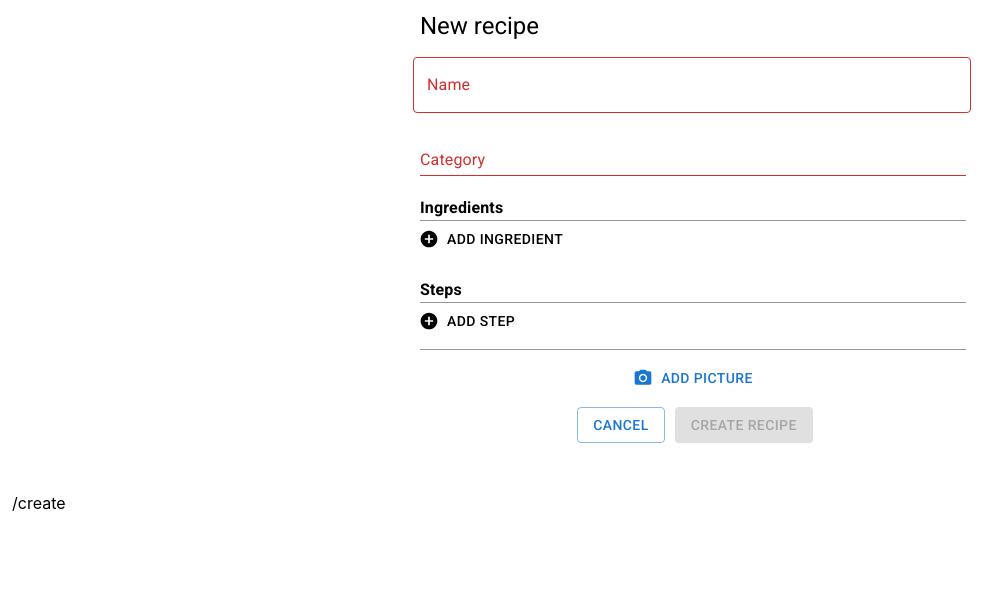
it: RecipeEditor › a new recipe › cannot be saved with an unnamed ingredient or an empty step
Type "Guláš" into the field labelled "Name".
click(692, 85); type("Guláš")  # box top-left (413, 57), bottom-right (971, 113)
Type "Maso" into the dropdown labelled "Category".
click(678, 160); type("Maso")  # box top-left (420, 144), bottom-right (936, 175)
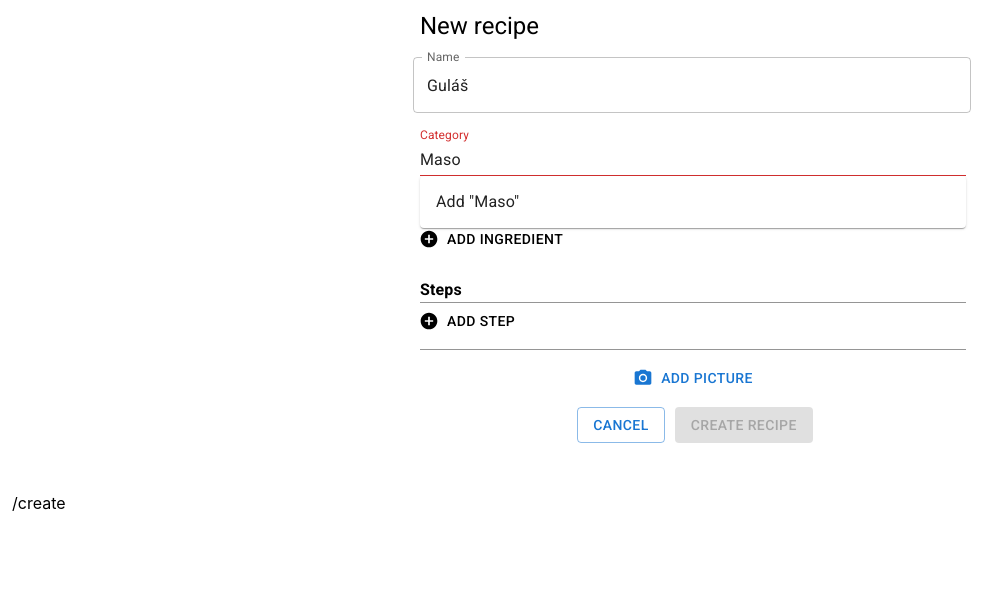
Press Enter in the dropdown labelled "Category", box top-left (420, 144), bottom-right (936, 175)
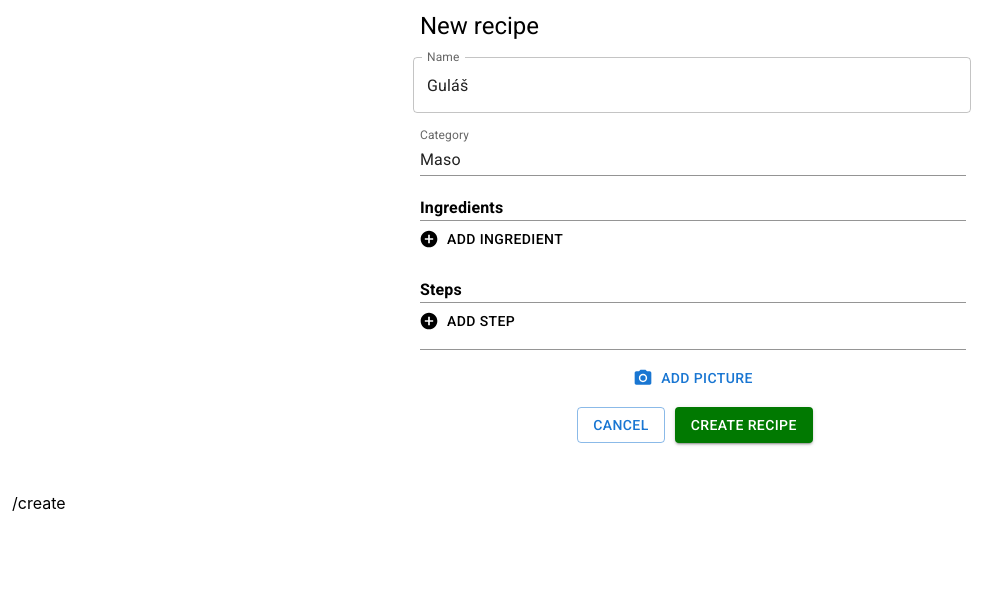
Click the button "Add ingredient".
click(493, 239)  # box top-left (415, 221), bottom-right (571, 258)
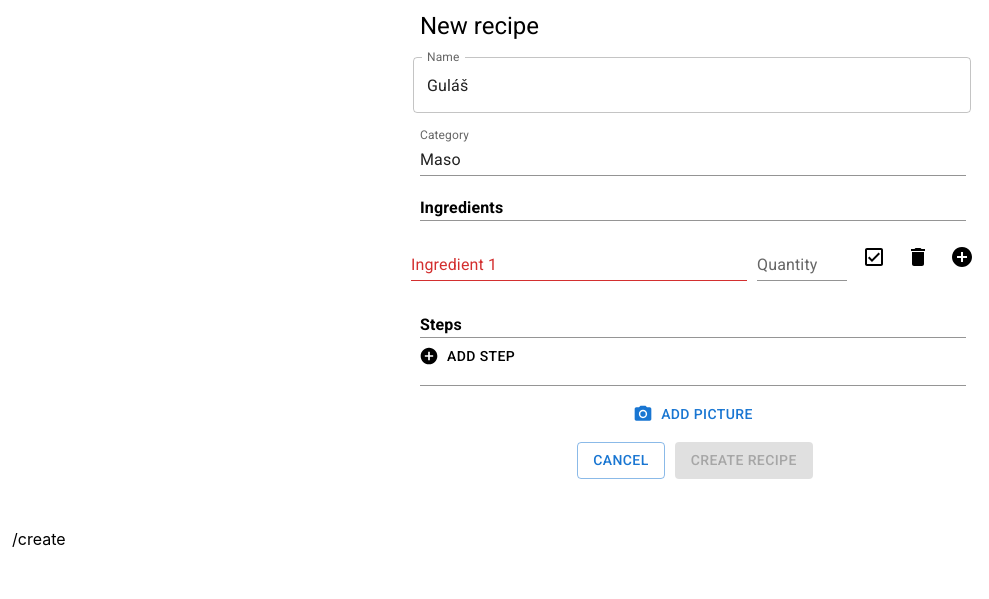
Expected: the button "Create Recipe" is disabled, top-left (675, 442), bottom-right (813, 478)
Type "Batatas" into the dropdown labelled "Ingredient 1".
click(564, 264); type("Batatas")  # box top-left (411, 249), bottom-right (717, 280)
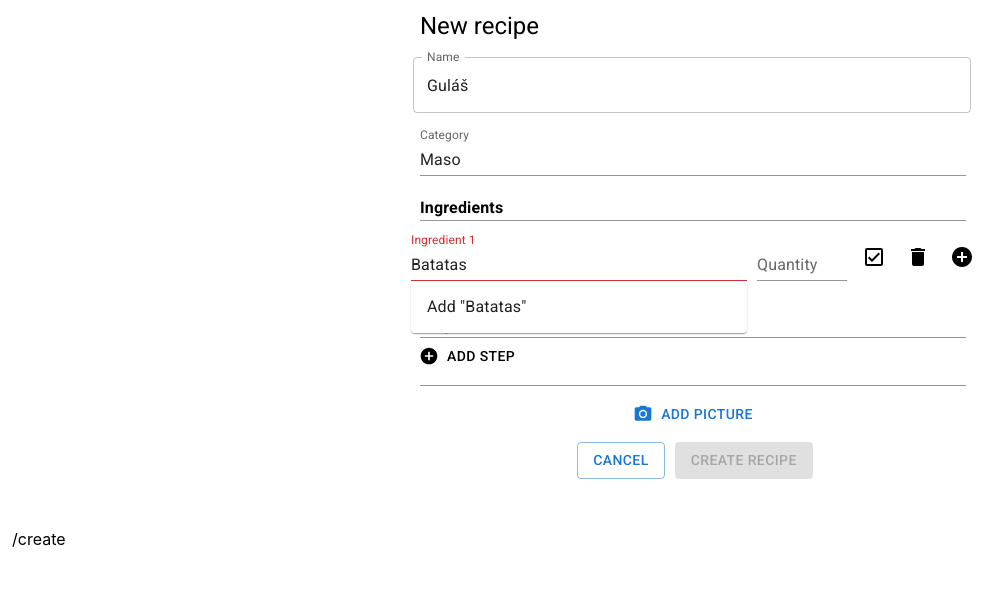
Press Enter in the dropdown labelled "Ingredient 1", box top-left (411, 249), bottom-right (717, 280)
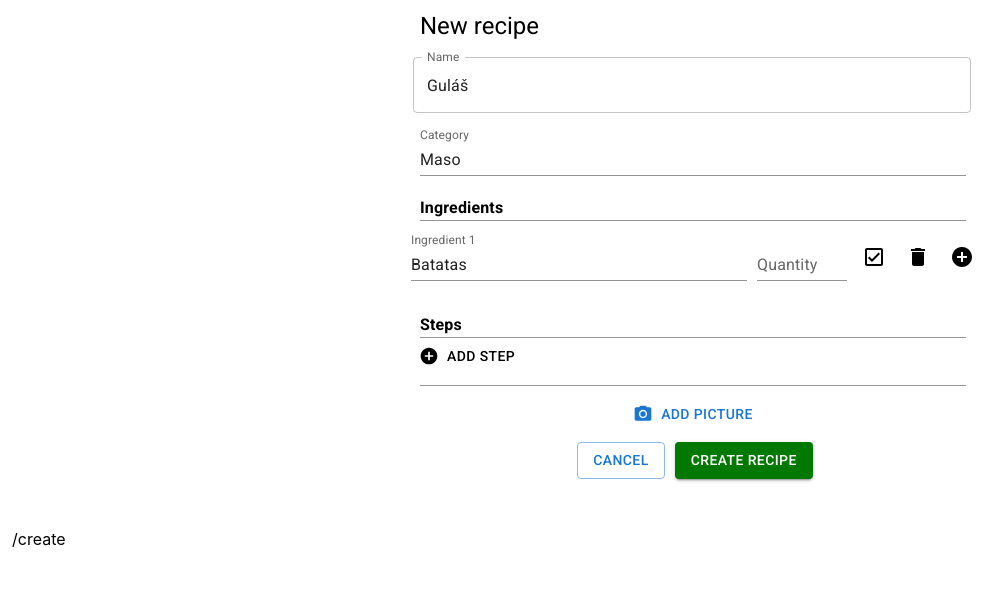
Expected: the button "Create Recipe" is enabled, top-left (675, 442), bottom-right (813, 478)
Click the button "Add step".
click(469, 356)  # box top-left (415, 338), bottom-right (523, 374)
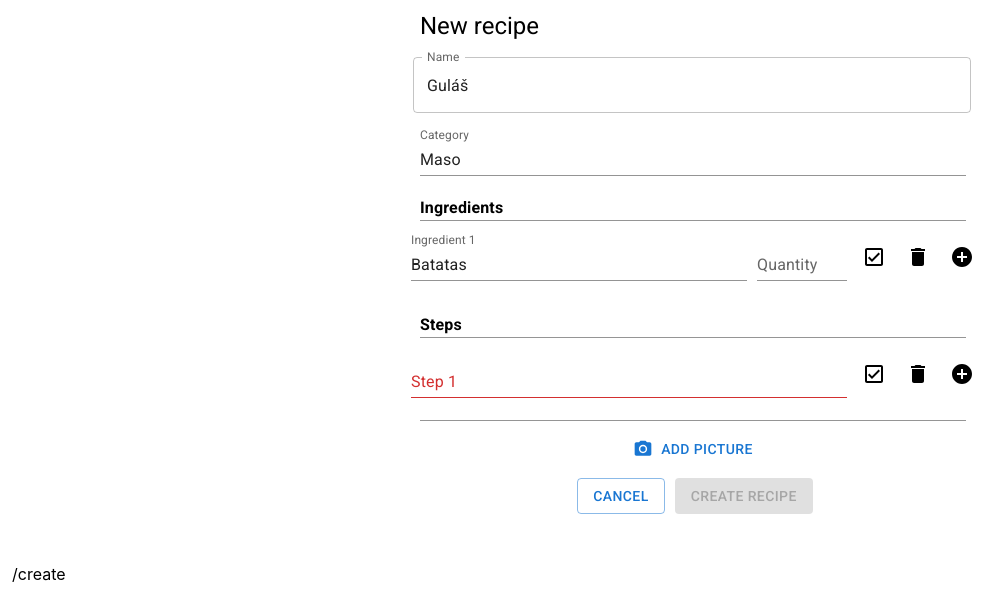
Expected: the button "Create Recipe" is disabled, top-left (675, 478), bottom-right (813, 514)
